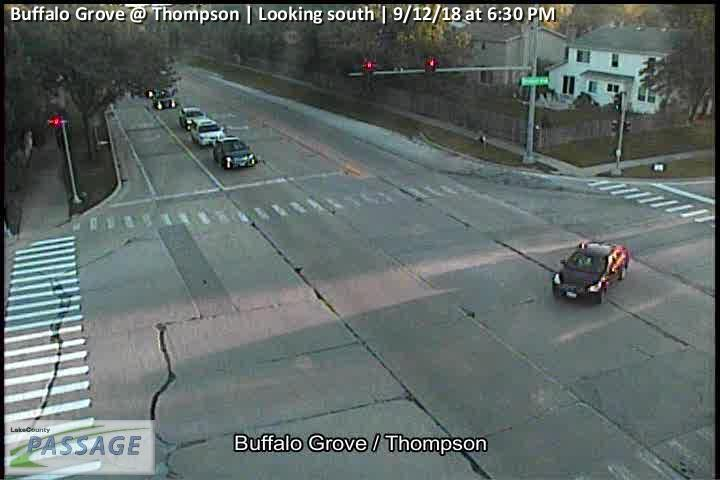Sedan: (552, 240, 629, 302), (213, 138, 256, 168), (189, 119, 226, 145), (178, 106, 206, 128), (150, 92, 176, 110)
